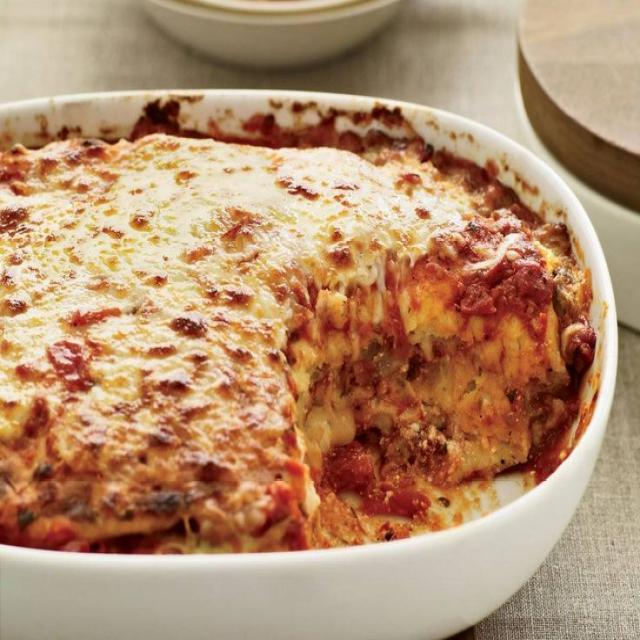Bechamel: (0, 107, 614, 583)
